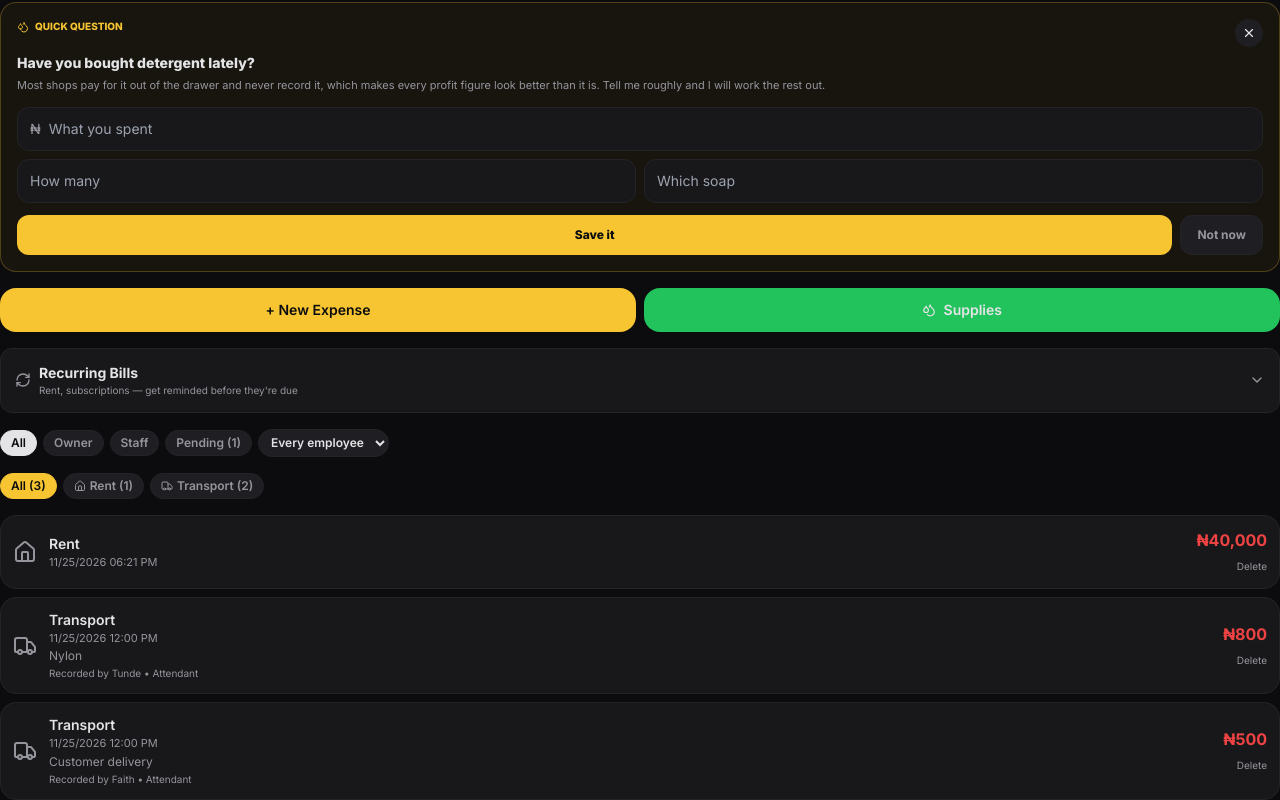
Test: the owner's filters › one employee
(page scrolled)
Select "Tunde" in the dropdown named "Filter by employee" at (324, 443), box [258, 429, 389, 457]
(page scrolled)
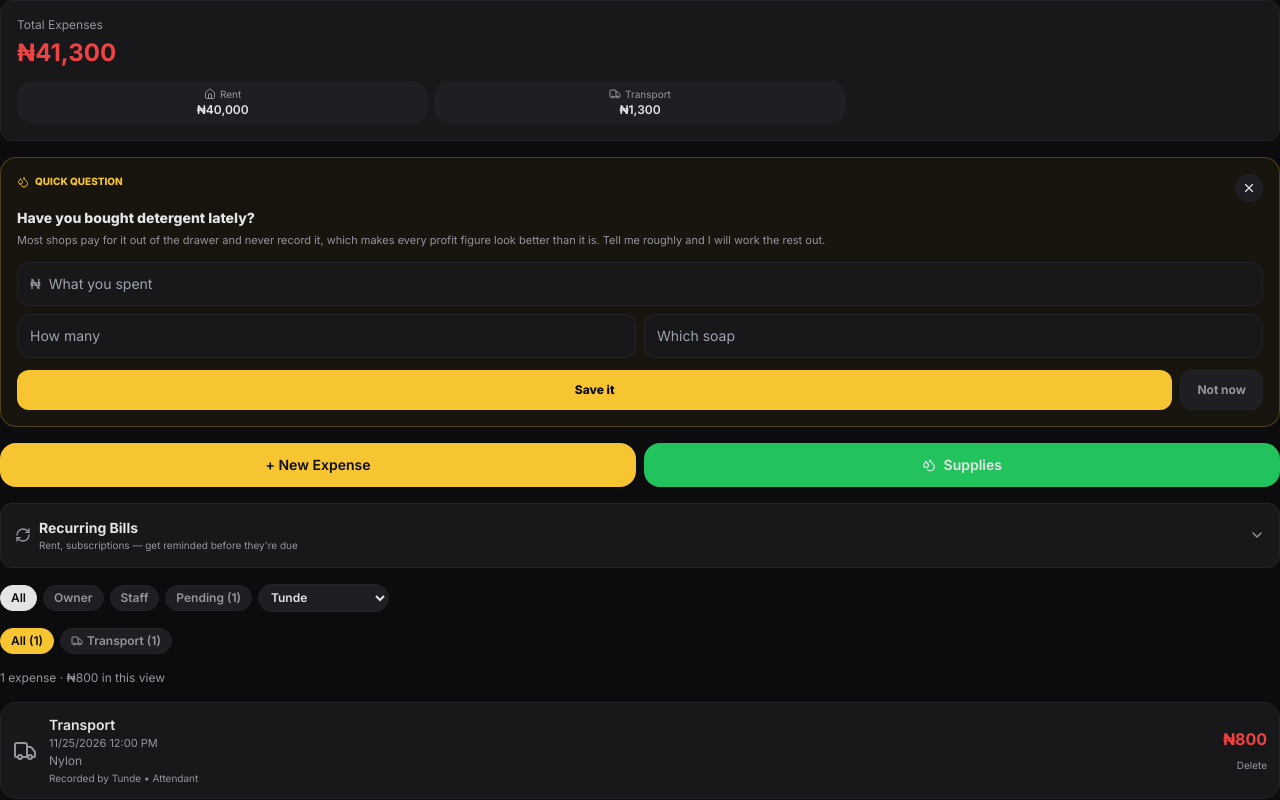
Now the text "1 expense · ₦800 in this view" is shown, box [0, 670, 165, 685]
